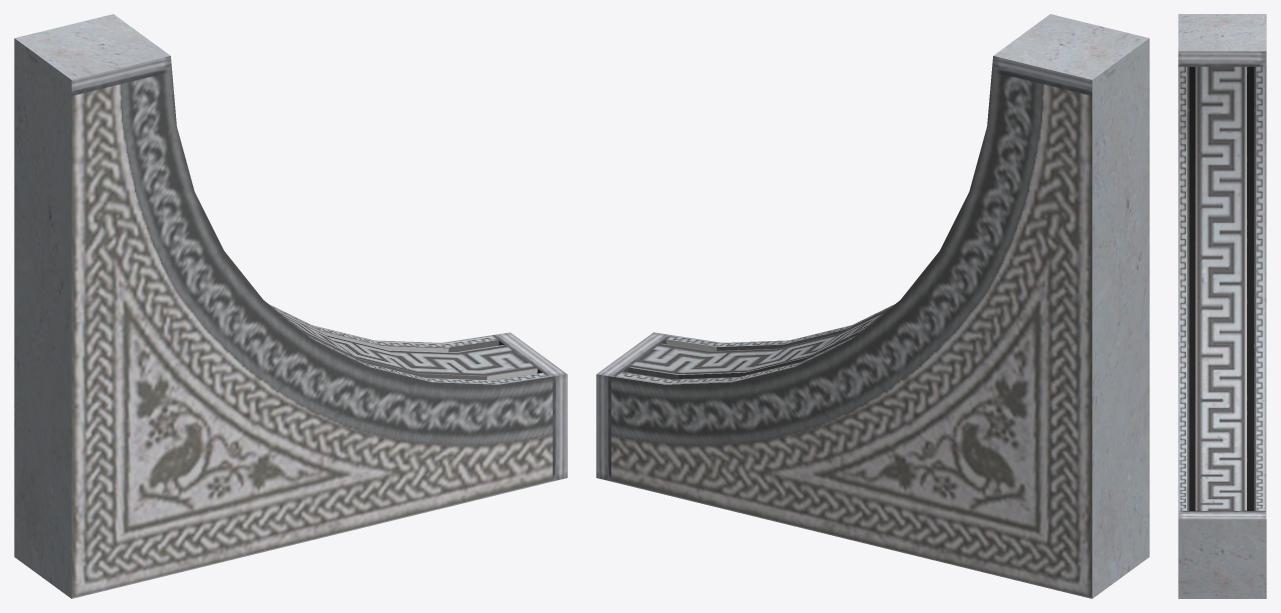
File: Slope3.fbx
3 views of the same model, side by side, from view 1: azimuth 30°, elevation 25°; view 2: azimuth 150°, elevation 25°; view 3: azimuth 270°, elevation 25° (orthographic). The views are drawn at different scales.
Visible parts, largest first — view 1: Slope3_Set3; view 2: Slope3_Set3; view 3: Slope3_Set3.
Part boxes in pixels (x1=…): Slope3_Set3: x1=14, y1=14, x2=567, y2=598; Slope3_Set3: x1=596, y1=14, x2=1149, y2=598; Slope3_Set3: x1=1178, y1=14, x2=1266, y2=598.
Size of the model in its own units: 5 by 5 by 1.
